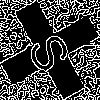S: (25, 25, 81, 76)
